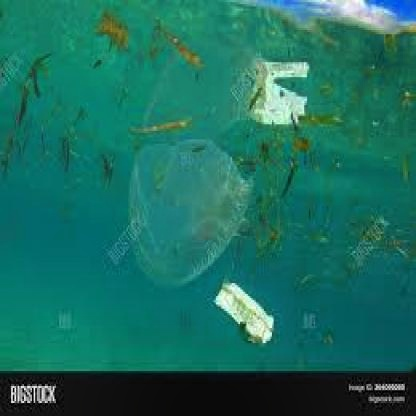misc: (245, 49, 315, 133), (210, 274, 280, 348)
pbag: (120, 135, 264, 290)
